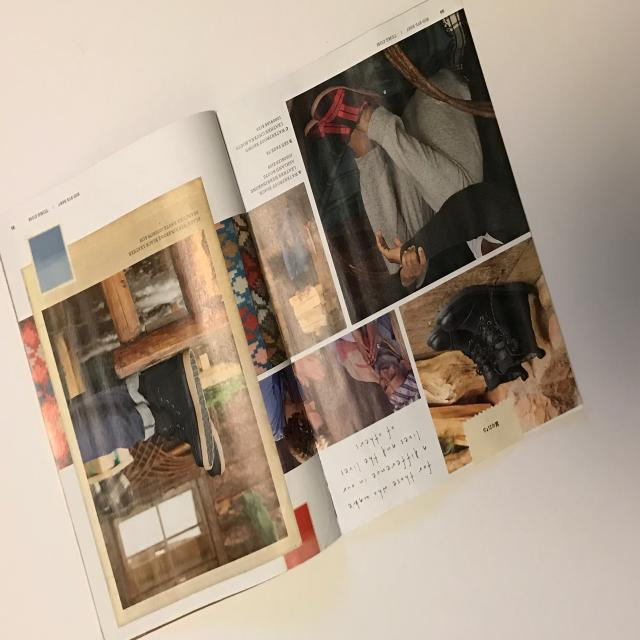paper: (8, 0, 638, 640)
